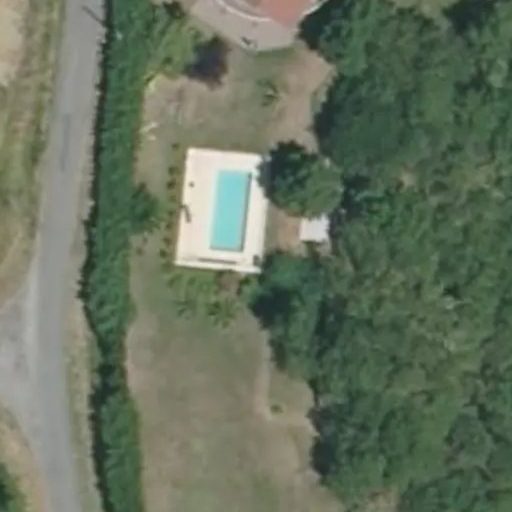pool: (237, 200, 274, 283)
